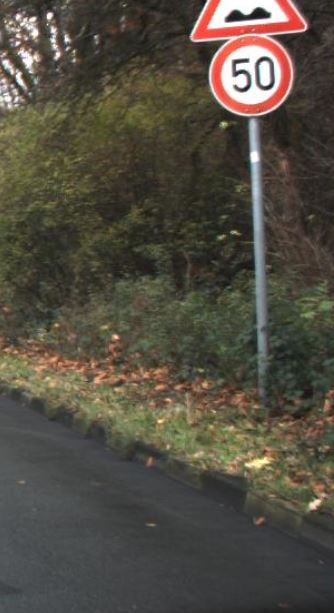50 Km Hiz Siniri: (207, 34, 300, 120)
